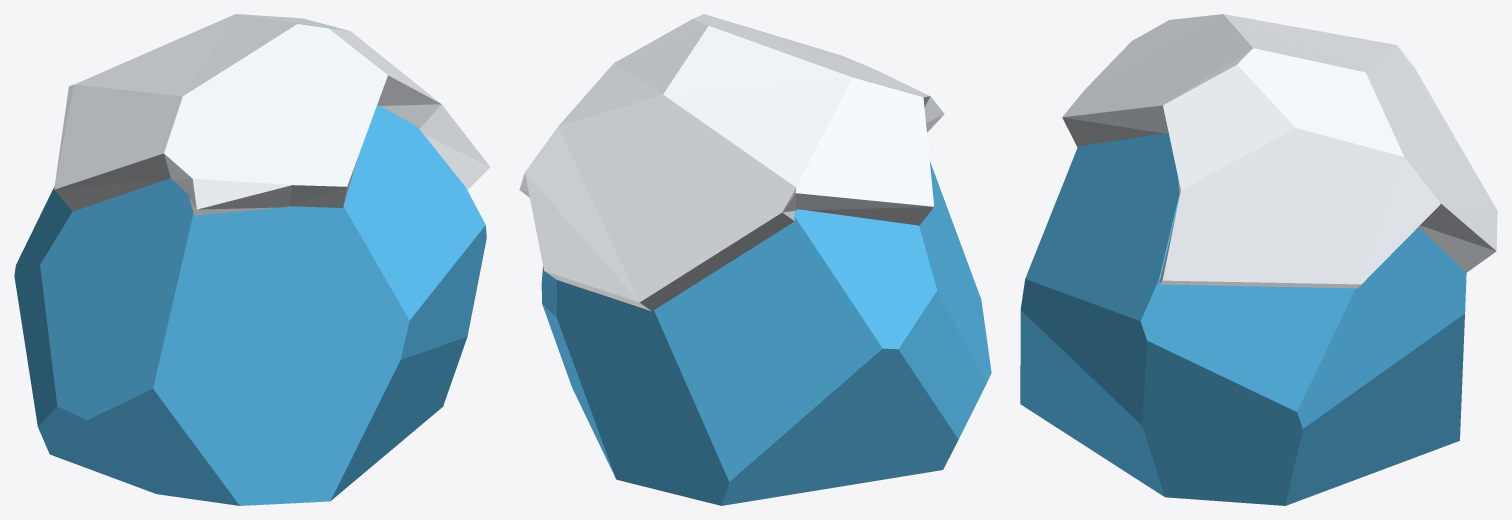
File: SnowyRock.fbx
3 renders of one model, left to right at view 1: azimuth 30°, elevation 25°; view 2: azimuth 150°, elevation 25°; view 3: azimuth 270°, elevation 25°, orthographic. The views are drawn at different scales.
Parts seen in each view (by area): view 1: SnowyRock, SnowyRock_Snow; view 2: SnowyRock, SnowyRock_Snow; view 3: SnowyRock, SnowyRock_Snow.
Part boxes in pixels (box(x1,y1,x2,y2)): SnowyRock: box(14, 105, 486, 505); SnowyRock_Snow: box(54, 14, 490, 215); SnowyRock: box(541, 161, 991, 505); SnowyRock_Snow: box(519, 14, 944, 311); SnowyRock: box(1020, 133, 1466, 505); SnowyRock_Snow: box(1062, 14, 1497, 288).
Size of the model in its own units: 9.72 by 8.59 by 9.38.
